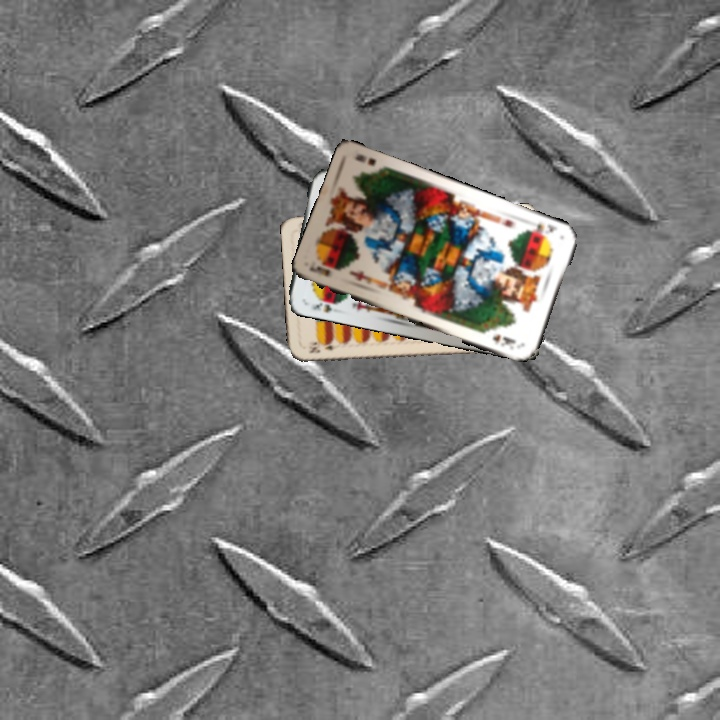E10: (305, 338, 342, 356)
SK: (523, 219, 560, 240), (308, 293, 341, 315), (306, 262, 334, 279)
